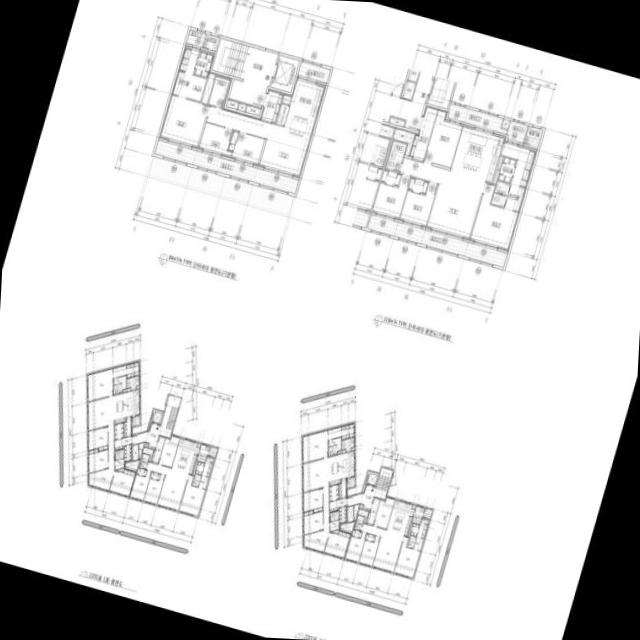background: (0, 0, 640, 640)
space_balconi: (154, 140, 299, 194), (447, 103, 507, 134), (297, 61, 330, 83), (507, 121, 527, 143), (186, 29, 205, 47), (207, 446, 217, 457), (422, 508, 432, 519), (347, 477, 355, 488), (132, 415, 139, 426)
space_bedroom: (470, 182, 519, 251), (159, 95, 209, 148), (424, 109, 462, 167), (372, 174, 410, 219), (399, 182, 437, 227), (227, 130, 264, 165), (199, 122, 232, 157), (179, 474, 205, 516), (394, 536, 420, 578), (302, 429, 327, 463), (87, 368, 112, 401), (109, 468, 136, 497), (324, 530, 351, 558), (143, 474, 165, 505), (158, 435, 179, 467), (373, 496, 394, 528), (358, 536, 380, 566), (130, 470, 151, 501), (345, 532, 366, 562), (88, 448, 108, 473), (303, 510, 323, 535), (303, 488, 322, 513), (88, 427, 107, 451), (408, 177, 428, 194), (381, 169, 401, 186), (351, 529, 361, 538), (150, 471, 160, 480), (365, 533, 375, 542), (136, 468, 146, 476)
space_dressroom: (501, 141, 537, 187), (178, 45, 199, 74), (504, 184, 526, 211), (194, 50, 214, 77), (497, 157, 516, 182), (416, 518, 428, 538), (341, 422, 354, 440), (201, 457, 213, 476), (126, 361, 139, 378), (195, 461, 204, 474), (410, 523, 419, 536)
space_elevator: (271, 55, 299, 92), (427, 76, 454, 108), (150, 409, 163, 424), (365, 471, 378, 486)
space_elevator_hall: (382, 72, 433, 130), (228, 47, 277, 107), (347, 456, 395, 510), (132, 395, 180, 448)
space_front: (409, 106, 437, 161), (260, 89, 283, 123), (151, 436, 165, 463), (366, 498, 380, 525), (329, 497, 346, 511), (114, 436, 131, 450), (114, 422, 123, 439), (329, 484, 338, 501), (124, 444, 131, 462), (339, 506, 346, 524)
space_kitchen: (450, 125, 505, 182), (283, 77, 326, 135), (171, 437, 199, 474), (386, 499, 414, 536), (113, 389, 139, 424), (328, 450, 354, 485)
space_living_room: (206, 106, 312, 177), (400, 157, 484, 239), (87, 396, 114, 491), (302, 458, 329, 552), (146, 462, 188, 511), (361, 523, 403, 572)
space_other: (393, 128, 415, 155), (201, 72, 215, 104), (276, 103, 289, 125), (402, 81, 415, 100), (197, 443, 210, 462), (412, 505, 425, 524), (126, 375, 139, 390), (341, 437, 354, 452), (338, 478, 346, 499), (123, 417, 131, 437), (407, 69, 419, 82), (245, 105, 260, 115), (389, 117, 405, 126), (126, 459, 139, 470), (143, 447, 153, 461), (341, 521, 354, 531), (358, 509, 368, 522), (226, 100, 238, 109), (347, 505, 353, 522), (138, 442, 144, 459), (282, 93, 291, 104), (353, 504, 359, 520), (132, 444, 138, 460), (501, 119, 509, 129), (237, 103, 246, 111), (192, 461, 197, 475), (407, 523, 412, 536), (122, 388, 130, 392), (337, 449, 345, 453), (147, 423, 151, 431), (116, 468, 123, 472), (362, 485, 366, 492), (331, 530, 338, 533), (412, 504, 416, 509), (197, 442, 201, 447), (359, 504, 363, 508), (144, 442, 148, 446), (136, 385, 139, 389), (351, 447, 354, 450)
space_outdoor_room: (523, 126, 542, 148), (203, 34, 219, 51)
space_staircase: (212, 38, 252, 79), (165, 406, 178, 430), (380, 468, 393, 491)
space_toilet: (171, 71, 206, 101), (208, 76, 229, 107), (386, 141, 406, 171), (113, 375, 126, 394), (328, 437, 341, 456), (491, 192, 507, 207), (494, 181, 510, 195), (113, 364, 126, 378), (328, 426, 341, 439), (139, 453, 149, 469), (354, 515, 364, 530), (198, 475, 208, 488), (413, 537, 423, 550), (330, 520, 339, 531), (115, 458, 124, 469), (193, 473, 201, 481), (191, 479, 199, 486), (406, 541, 414, 548), (408, 535, 416, 542), (330, 511, 334, 522), (119, 449, 123, 459), (334, 510, 338, 520), (115, 450, 119, 460)
